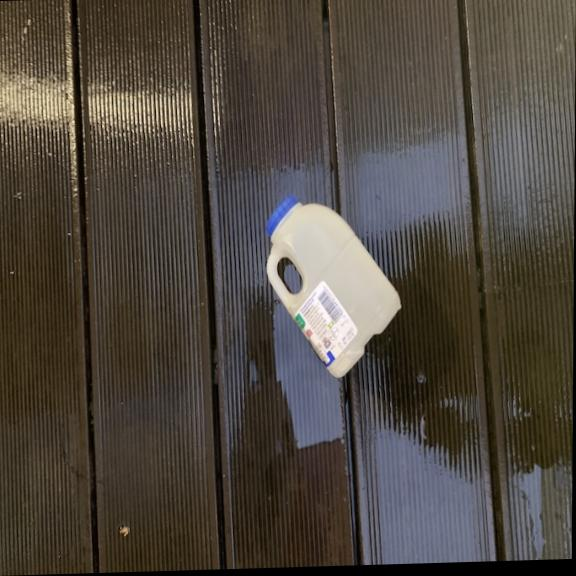Plastik: (259, 186, 406, 384)
